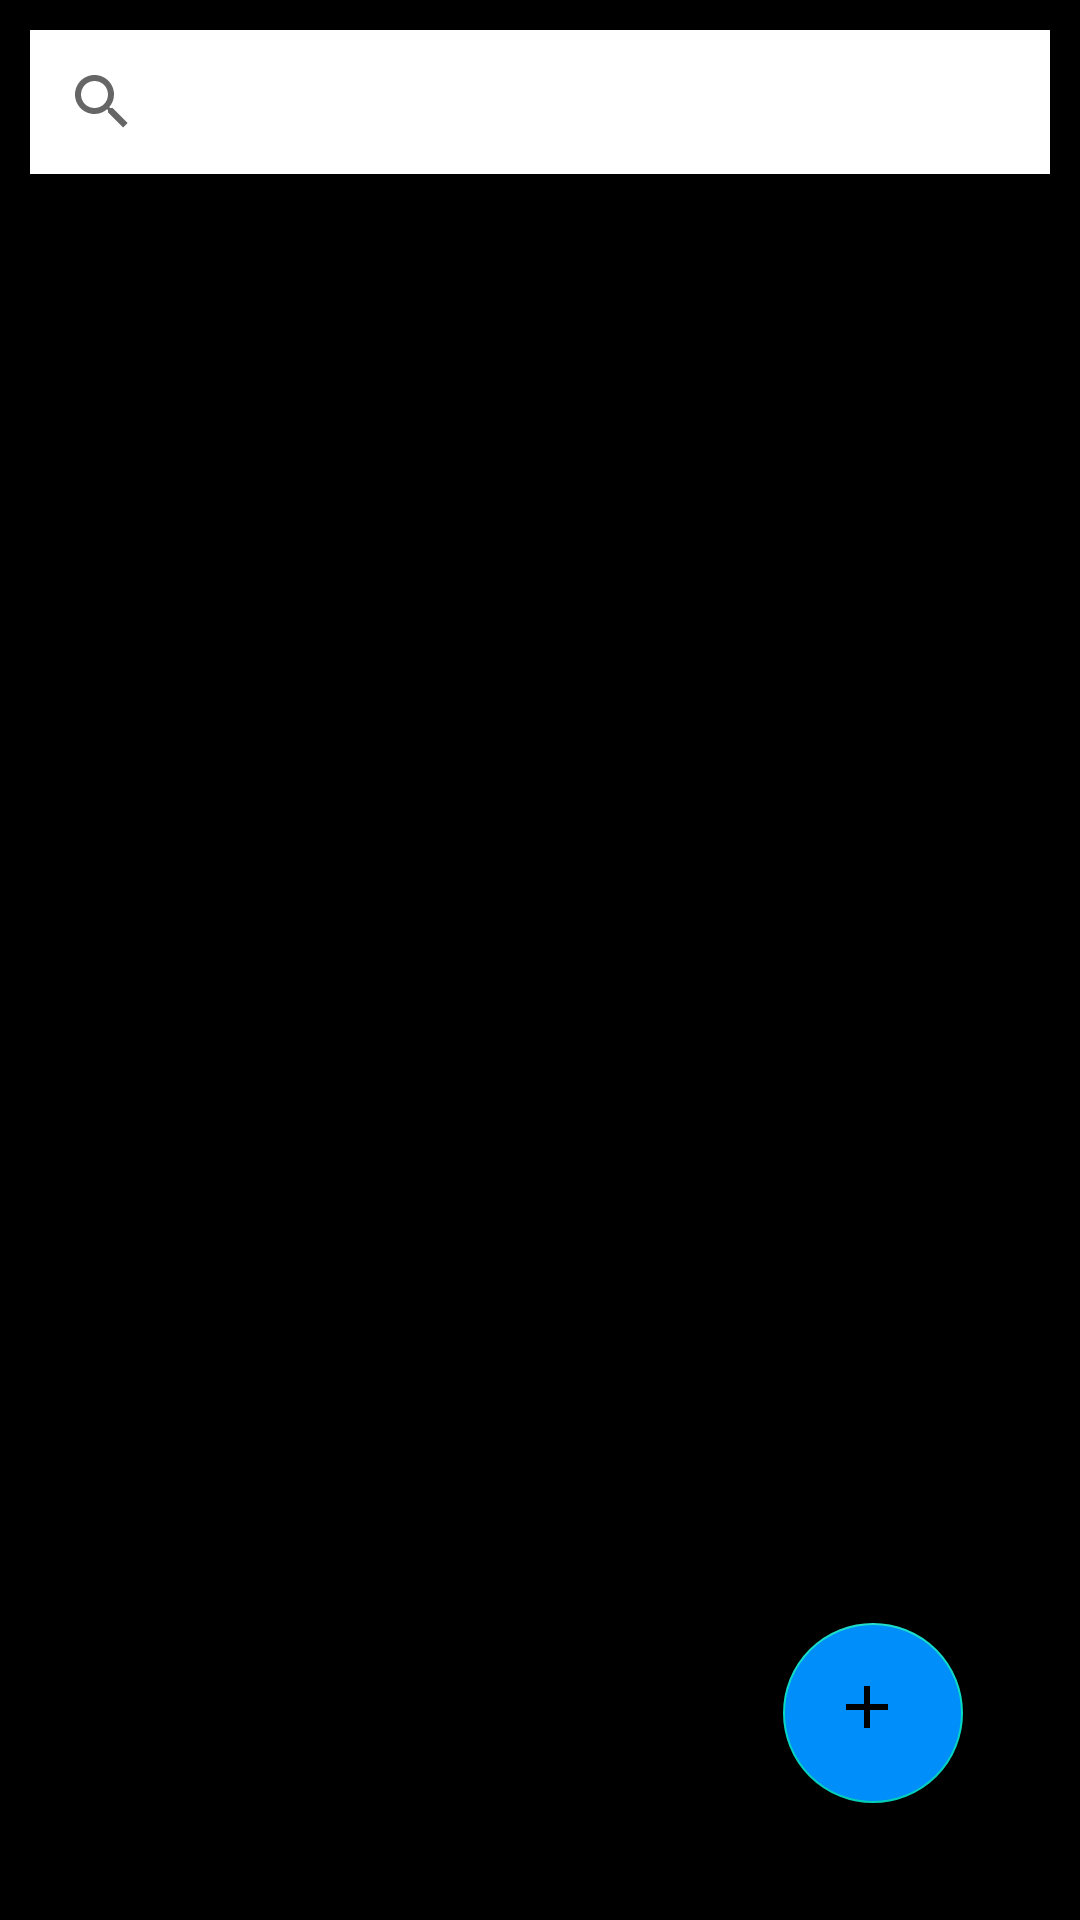

Icon click points for this 1080*1920 phone screenshot, format [x,y]:
add: [873,1713]
